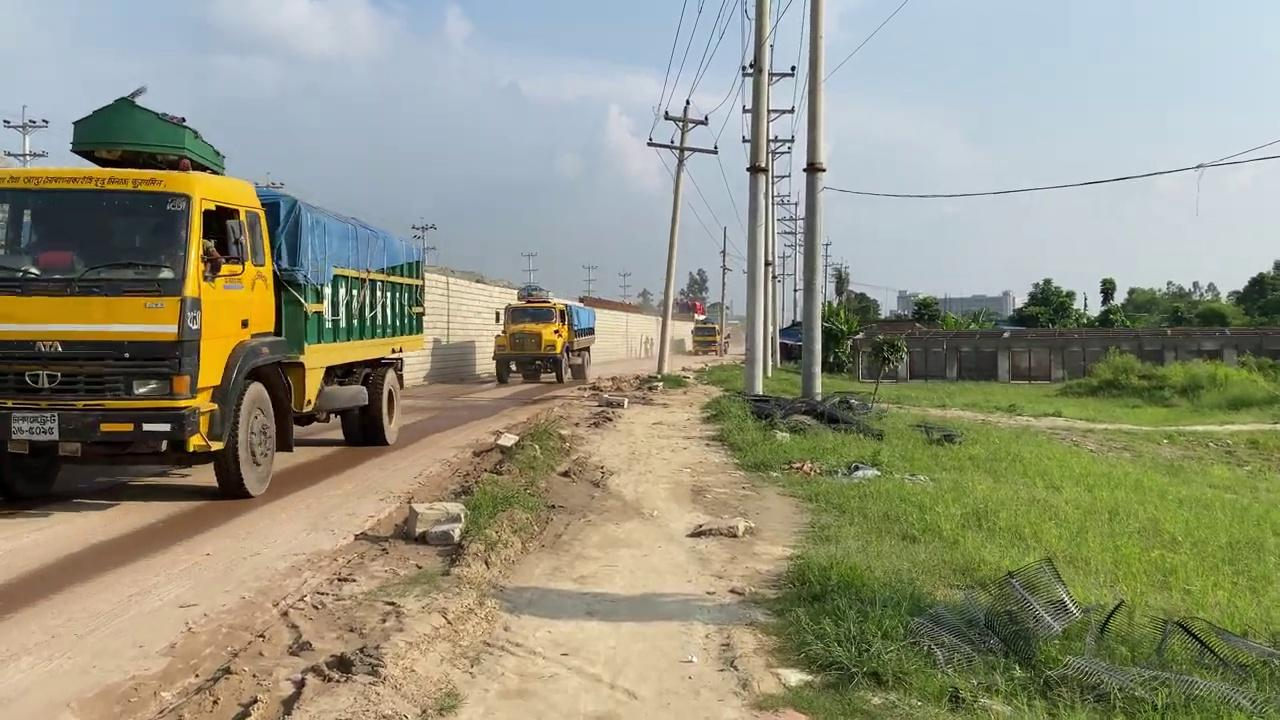Fence: (850, 326, 1278, 384)
Pole: (742, 0, 770, 395), (800, 0, 825, 401)
Rickshaw: (441, 362, 816, 718)
Tree: (0, 84, 427, 500), (492, 283, 596, 384), (691, 317, 730, 356)
Upstairs: (398, 267, 697, 385)
